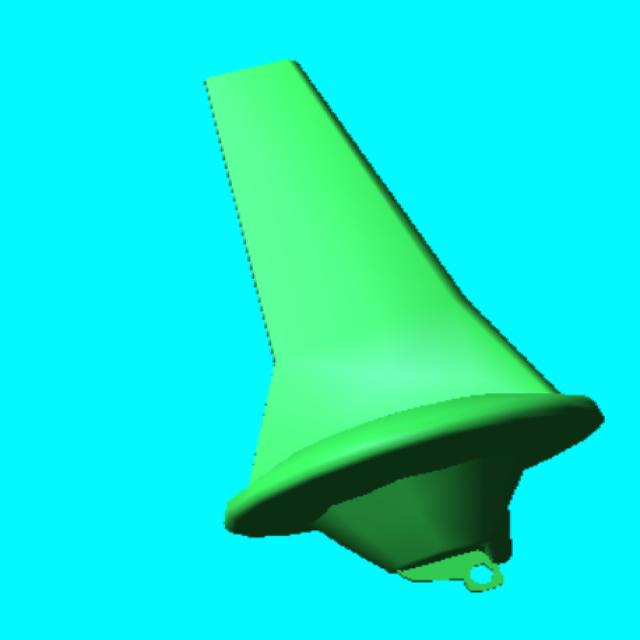GreenBuoy: (202, 62, 611, 594)
